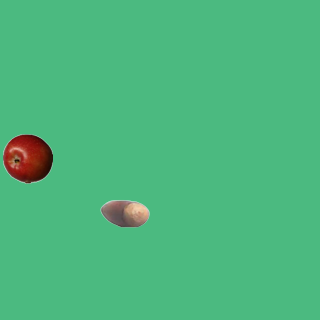Apple Braeburn: (2, 133, 52, 183)
Hazelnut: (99, 188, 149, 238)
